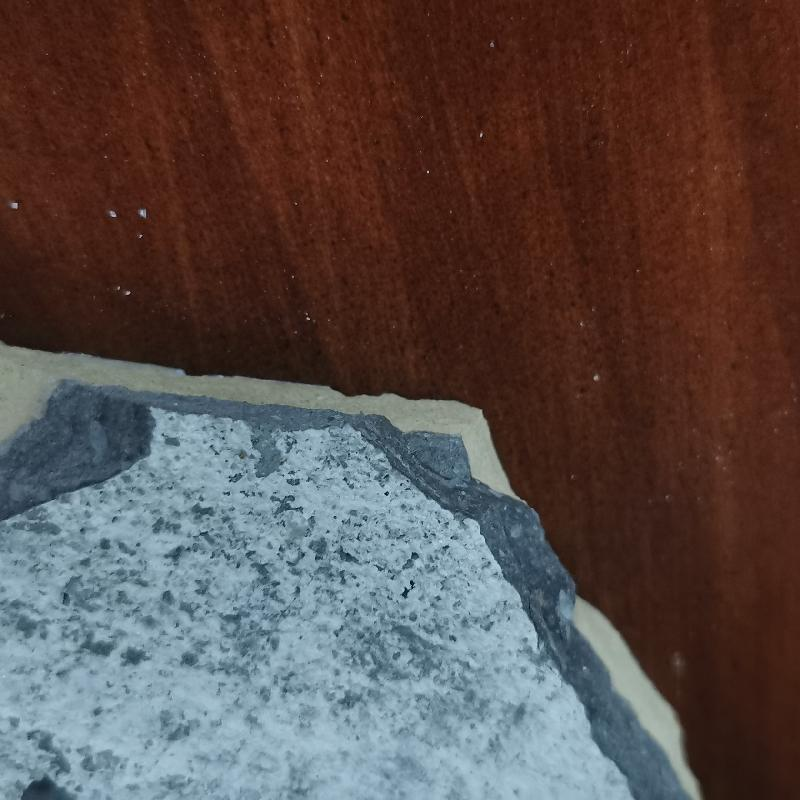tile: (0, 318, 708, 800)
